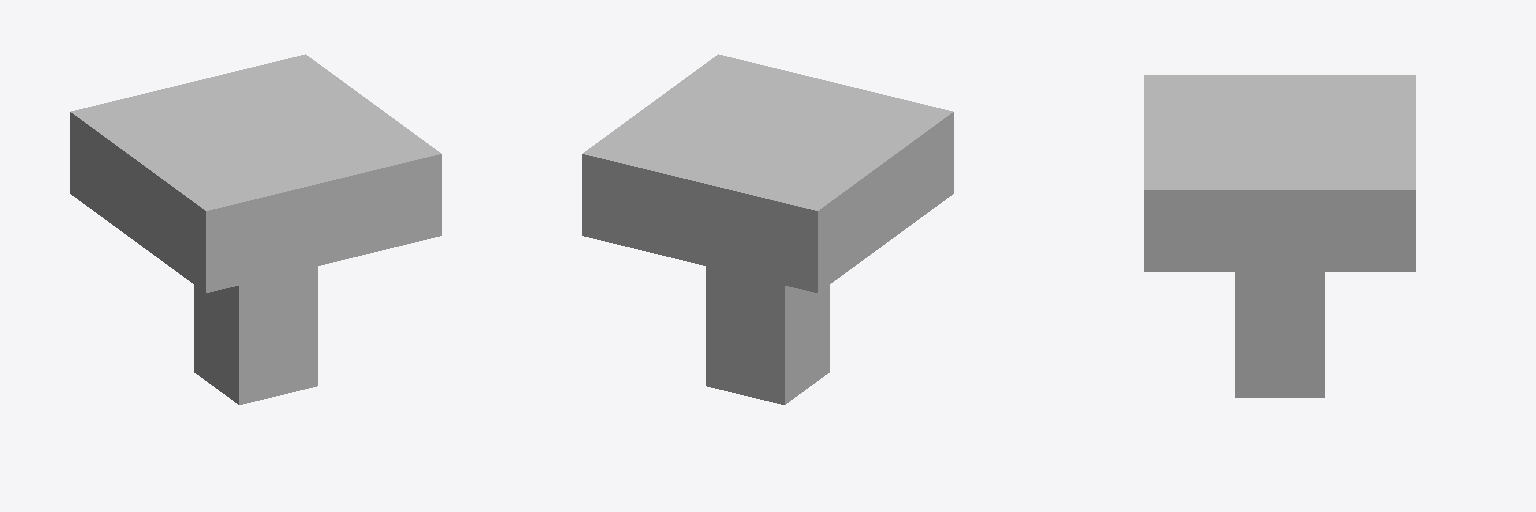
File: tree -4.obj
3 views of the same model, side by side, from view 1: azimuth 30°, elevation 25°; view 2: azimuth 150°, elevation 25°; view 3: azimuth 270°, elevation 25° (orthographic).
Parts seen in each view (by area): view 1: object 1; view 2: object 1; view 3: object 1.
Part boxes in pixels (bbox=[...]): object 1: bbox=[70, 54, 441, 404]; object 1: bbox=[582, 54, 953, 404]; object 1: bbox=[1144, 75, 1415, 397].
Bounding box in the file's own units: 0.3 × 0.3 × 0.3.